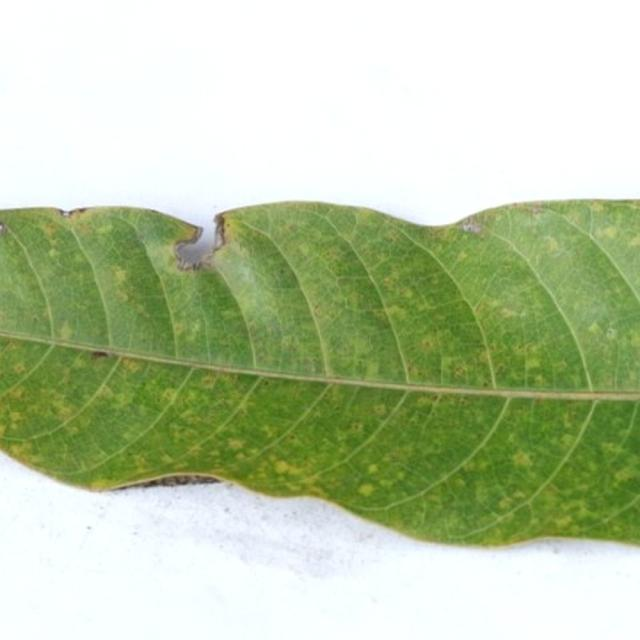Mango: (0, 200, 639, 544)
Powdery_Mildew: (582, 315, 637, 377), (268, 451, 302, 482), (170, 426, 204, 446), (10, 442, 33, 459), (440, 356, 460, 375), (362, 360, 381, 379), (383, 305, 407, 320), (512, 451, 533, 467), (58, 320, 74, 341), (601, 443, 622, 457), (543, 237, 560, 254), (565, 500, 585, 514), (322, 249, 342, 263), (280, 334, 297, 350), (601, 226, 621, 239), (475, 486, 490, 503), (614, 468, 632, 482), (123, 360, 142, 373), (335, 427, 352, 441), (113, 269, 128, 284), (587, 320, 602, 335), (43, 221, 59, 235), (562, 413, 576, 429), (358, 484, 375, 497), (555, 515, 572, 528), (419, 336, 436, 349), (95, 222, 113, 234), (58, 405, 73, 419), (499, 307, 518, 318), (560, 434, 576, 447), (382, 276, 399, 288), (498, 497, 513, 510), (590, 201, 606, 213), (526, 357, 541, 369), (134, 455, 149, 467), (203, 374, 218, 385), (555, 360, 568, 372), (165, 392, 178, 404), (13, 362, 26, 374), (494, 363, 507, 375), (229, 440, 244, 450), (173, 323, 185, 335), (533, 374, 545, 386), (367, 463, 380, 474), (9, 411, 22, 422), (453, 478, 466, 489), (373, 404, 386, 415), (135, 304, 147, 315), (457, 251, 469, 262), (474, 303, 486, 314), (477, 461, 490, 471), (379, 479, 393, 487), (48, 248, 59, 258), (403, 290, 414, 300), (162, 455, 174, 463)
